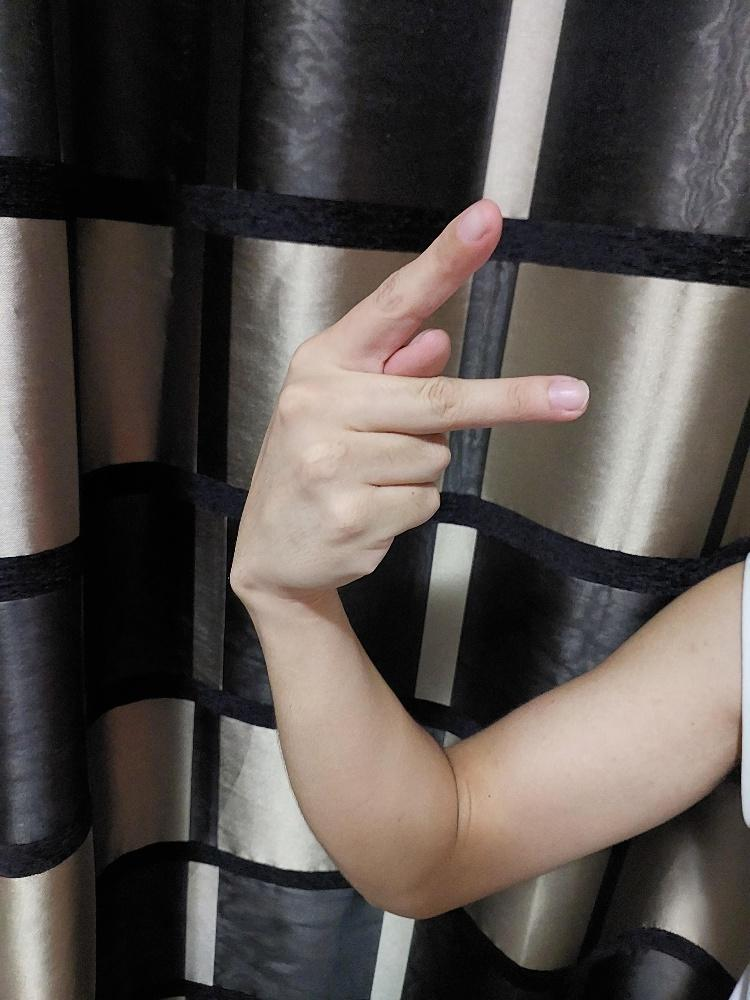k: (226, 196, 591, 596)
